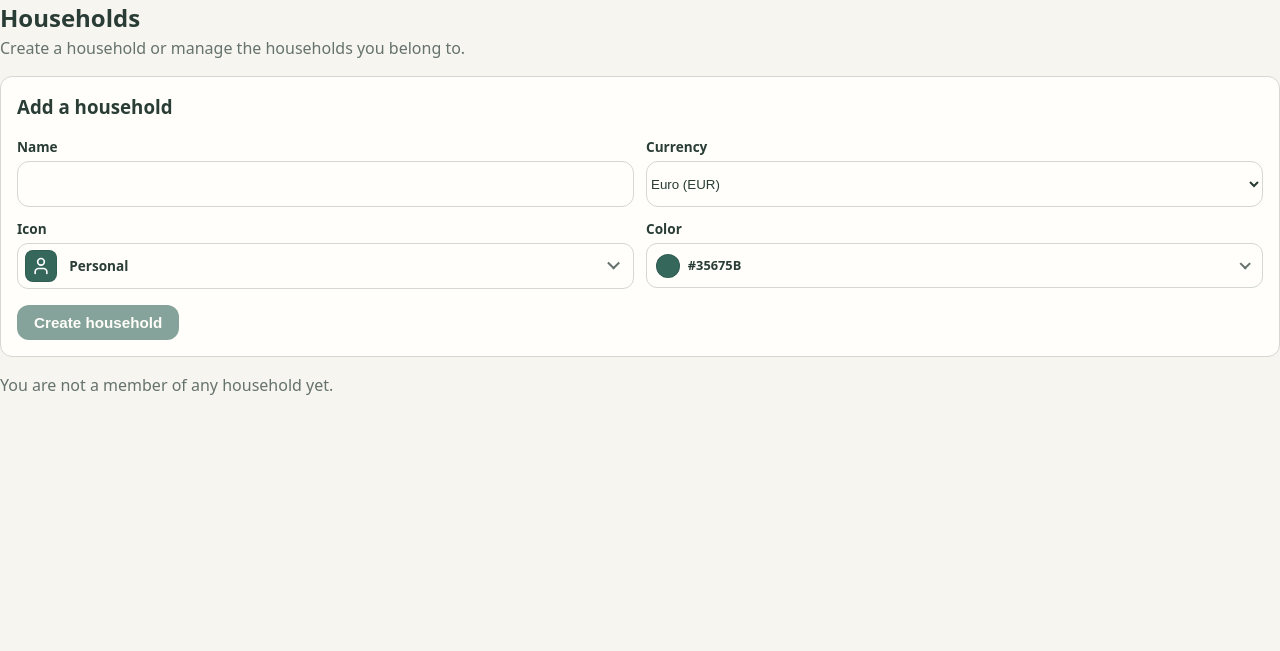
Test case: household currency settings › creates with the selected currency and edits it without affecting another household
The image size is (1280, 651).
Check: the dropdown labelled "Currency" shows "Euro (EUR)", box [646,162,1263,207]
Type "Home" into the field labelled "Name" at (326,184), box [17,162,634,207]
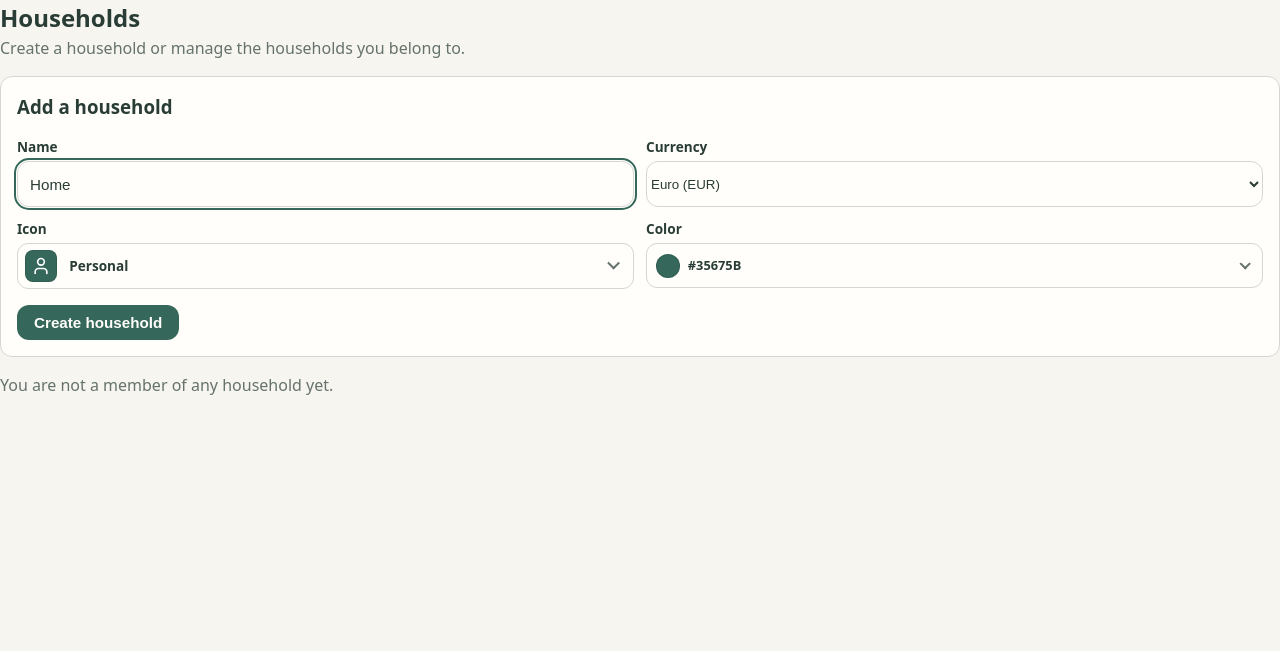
Select "US dollar (USD)" in the dropdown labelled "Currency" at (954,184), box [646,162,1263,207]
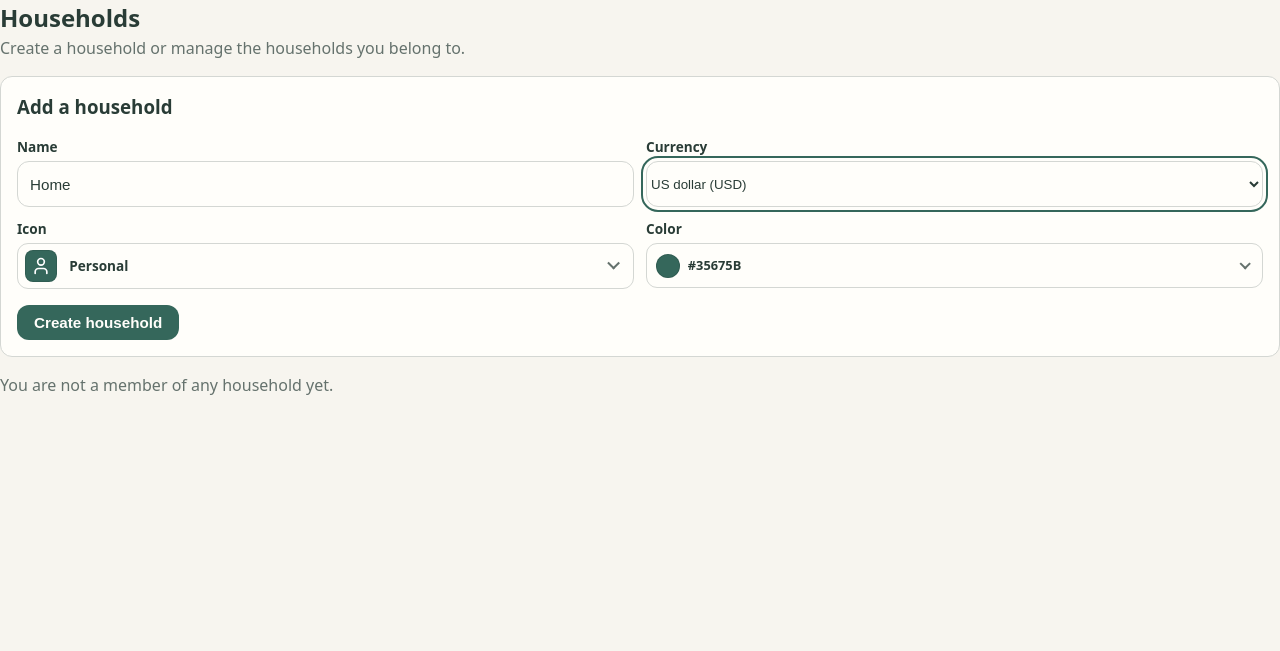
Click the button "Create household" at (98,322), box [17,305,179,340]
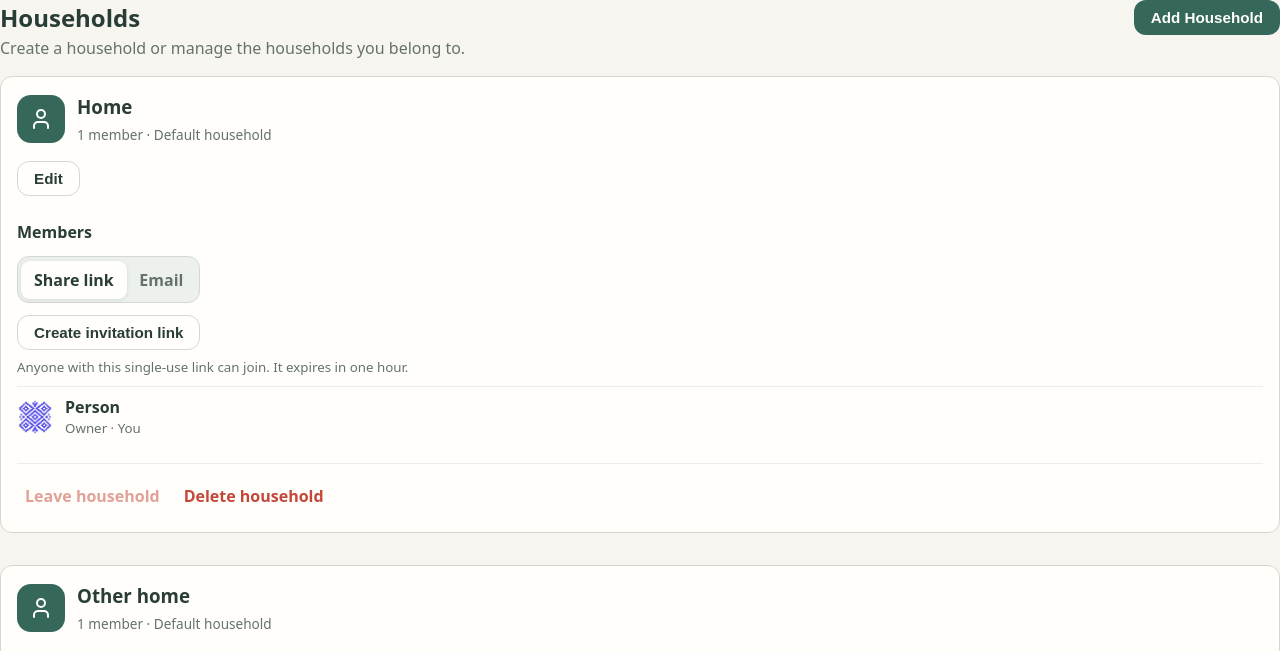
Click the 1st button "Edit" at (48,179), box [17,162,80,196]
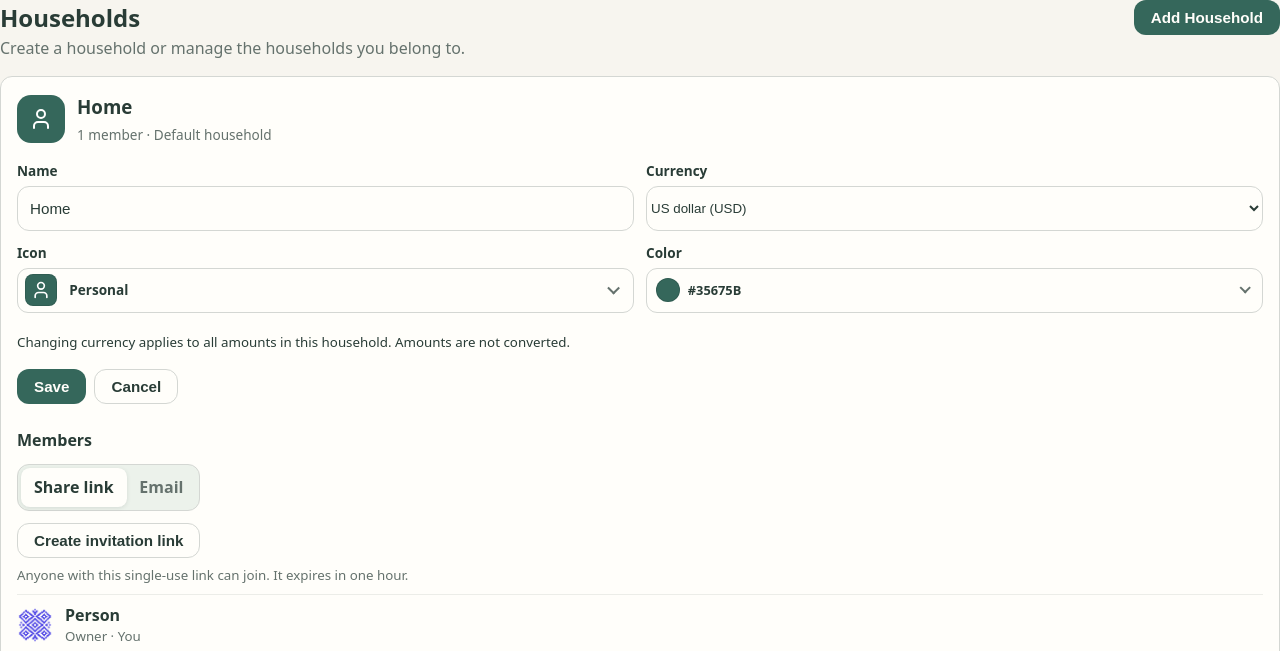
Check: the dropdown labelled "Currency" shows "US dollar (USD)"
Select "Japanese yen (JPY)" in the dropdown labelled "Currency" at (954,209), box [646,186,1263,232]
Click the button "Save" at (52,386), box [17,369,86,404]
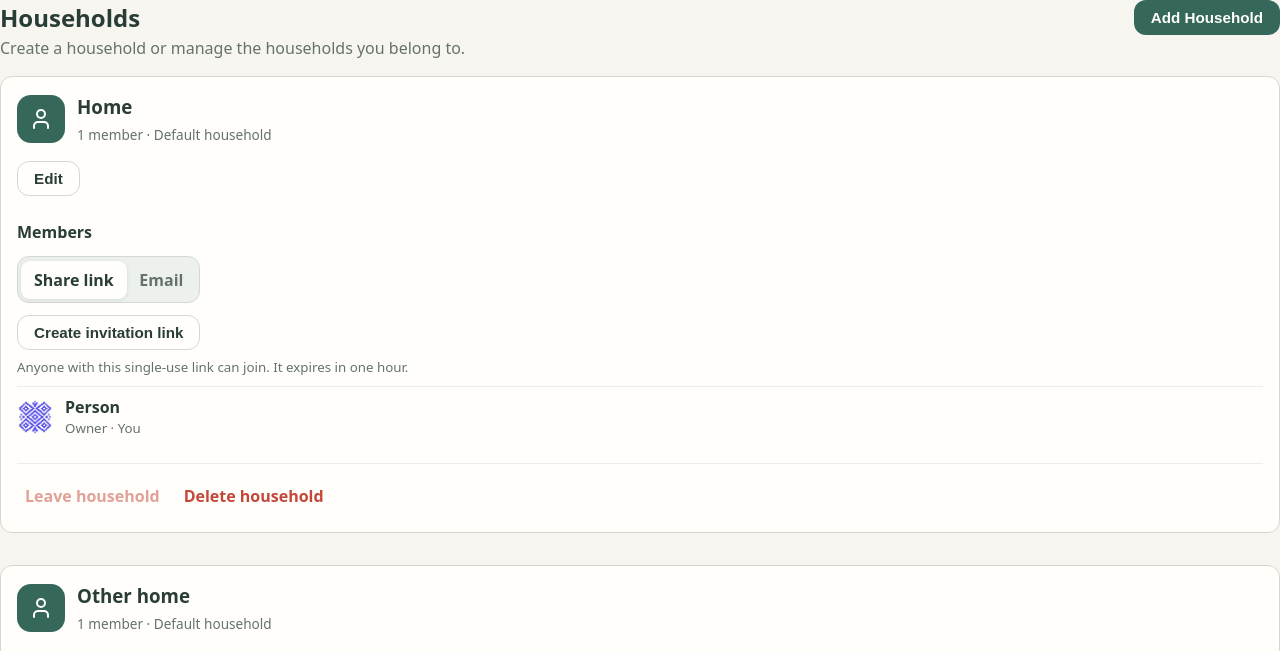
Check: the text labelled "Currency" is gone
Click the 1st button "Edit" at (48,179), box [17,162,80,196]
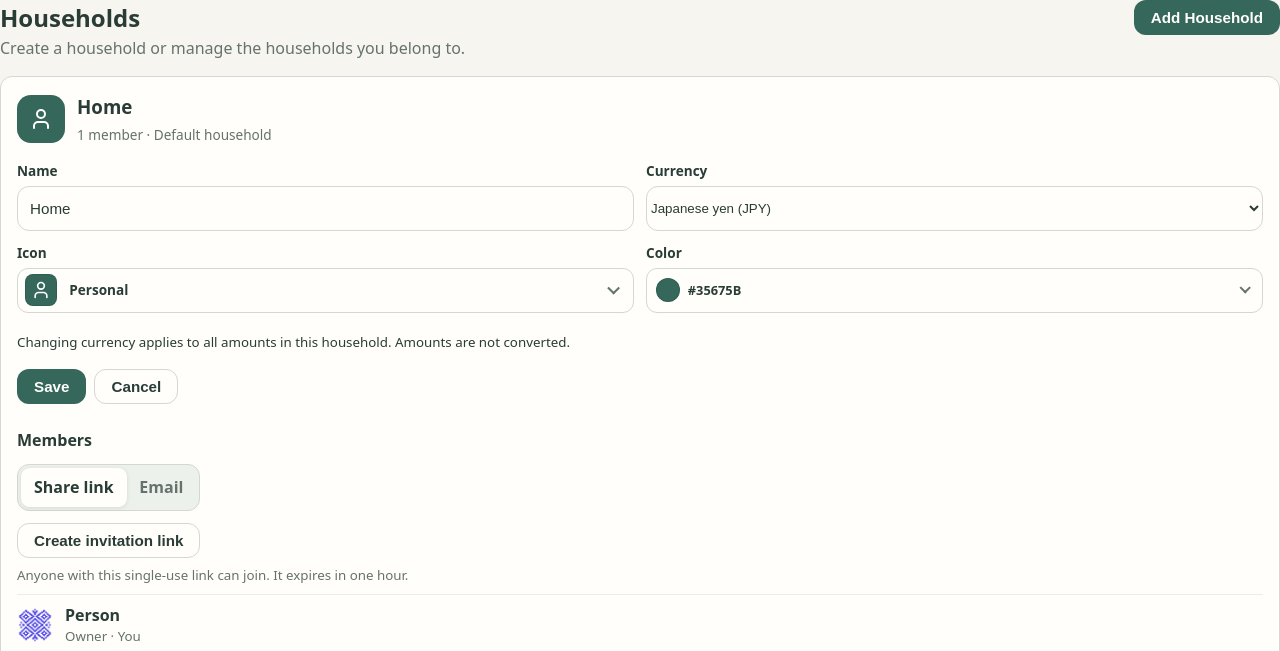
Check: the dropdown labelled "Currency" shows "Japanese yen (JPY)", box [646,186,1263,232]
